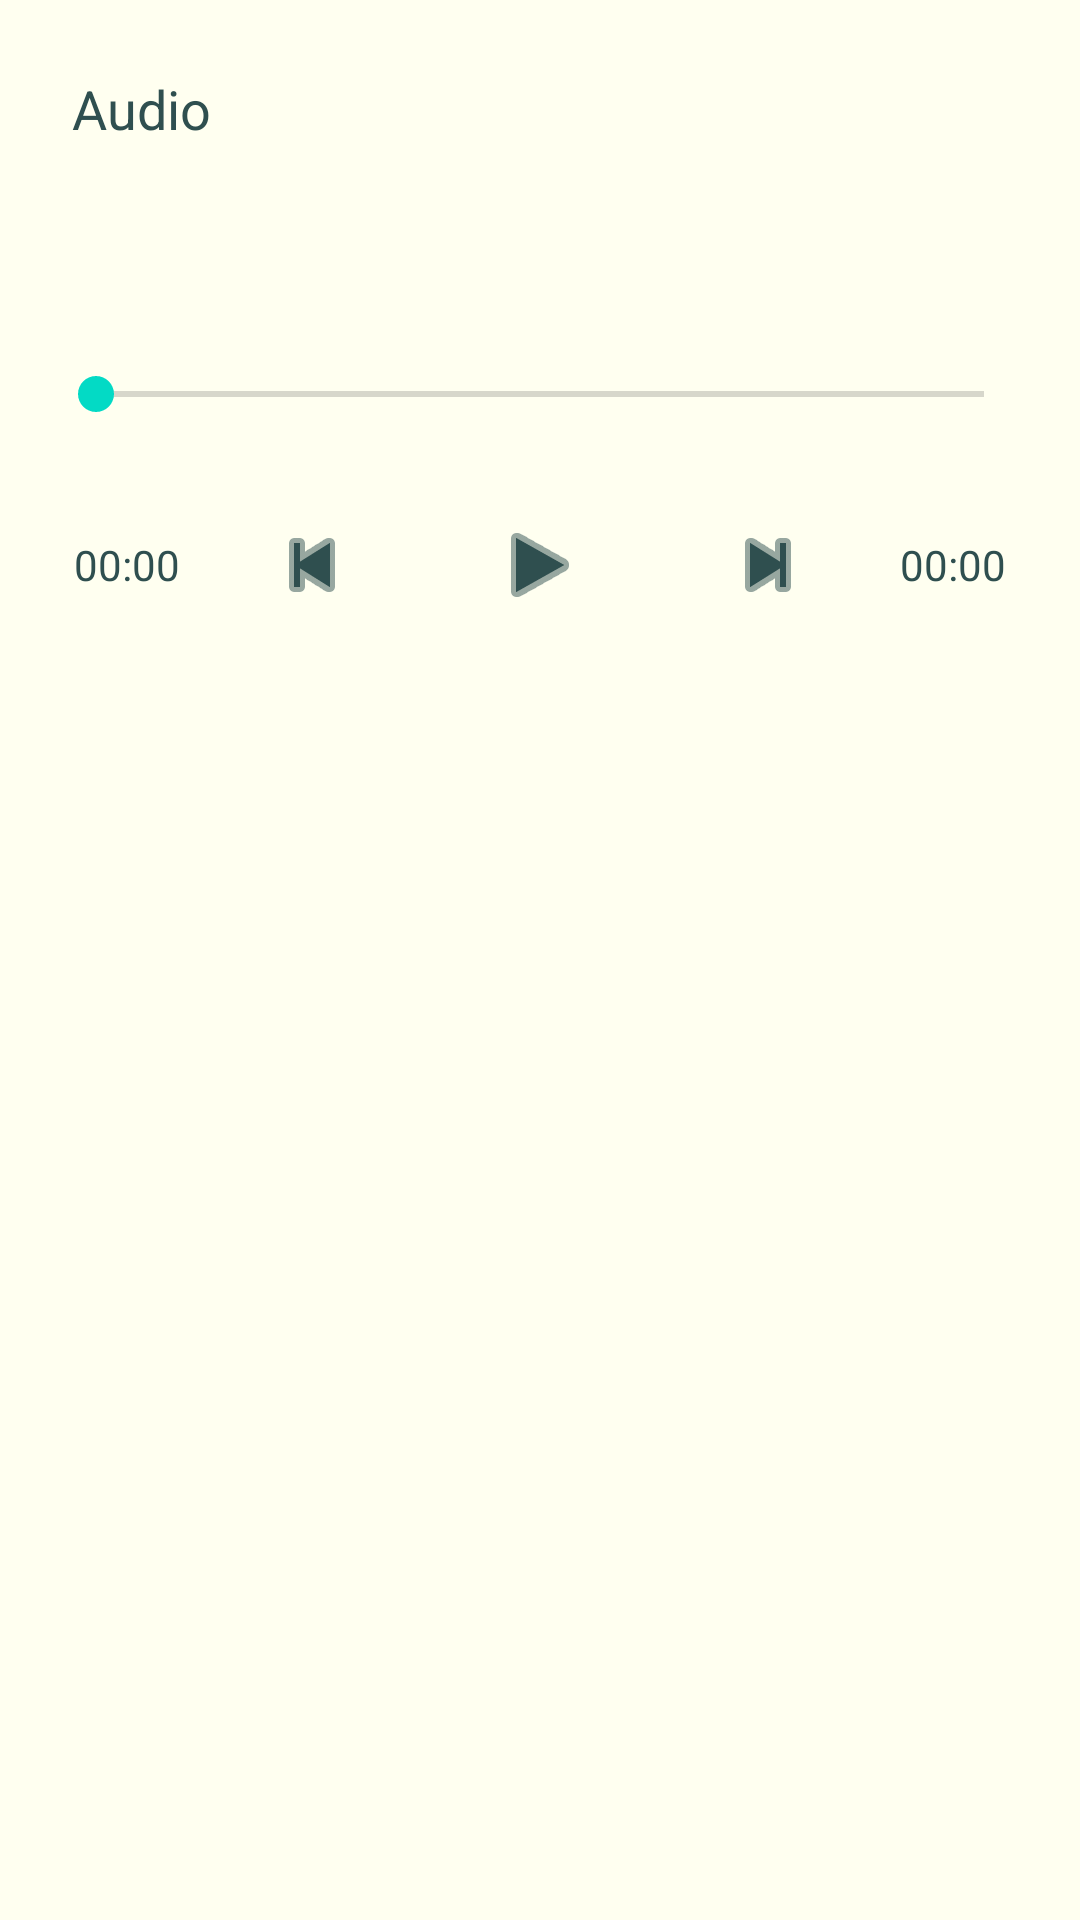

Named icons in this screenshot (1080w x 1920h) and their bounding boxes, (x1, y1, x2, y2):
next: (745, 538, 791, 592)
play: (511, 533, 569, 597)
previous: (289, 538, 335, 592)
